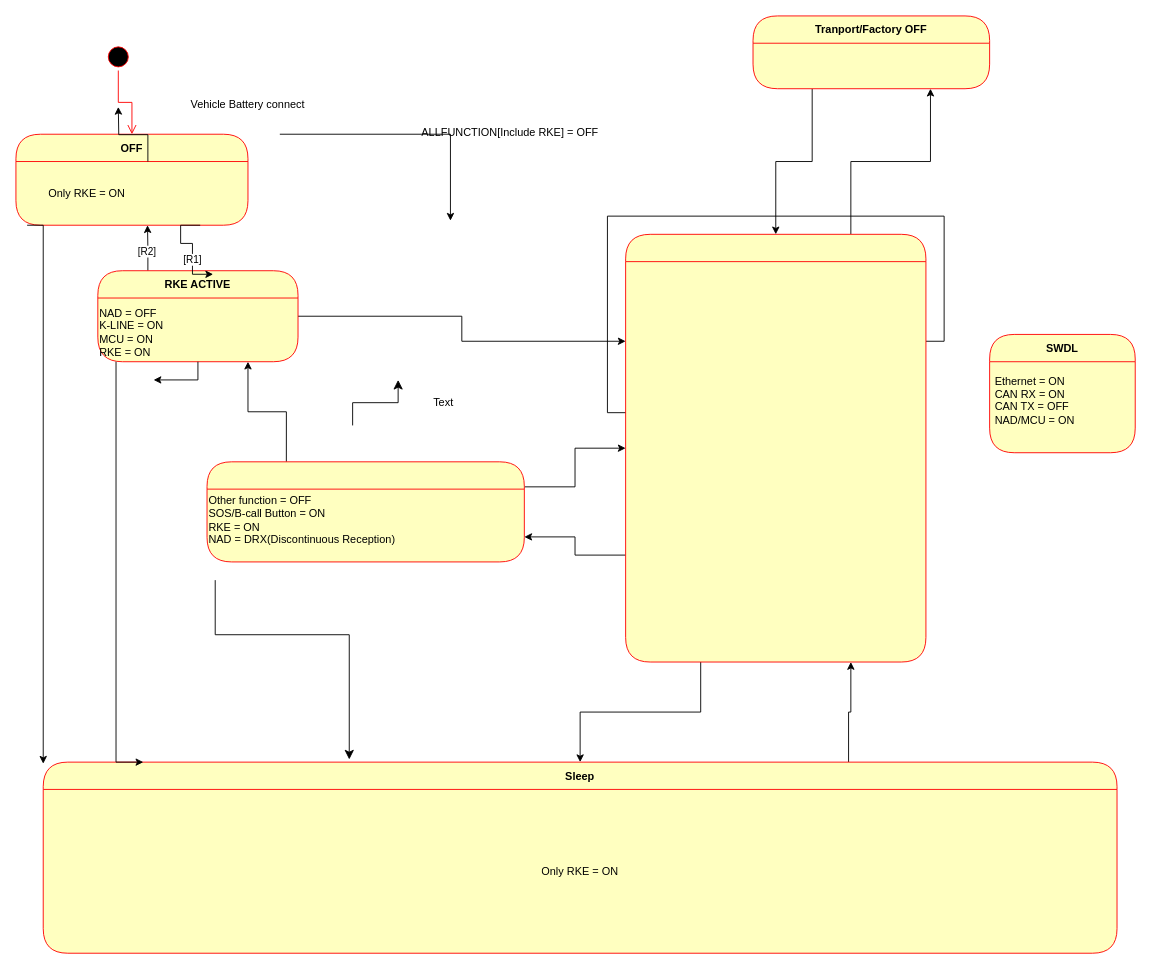
Image size: 1151x969. Some labels were removed from this diagram. The box of each missing label's shape, as (x1, y1, x2, y2) in pixels:
Normal: (625, 233, 926, 662)
Standby: (206, 461, 524, 562)
